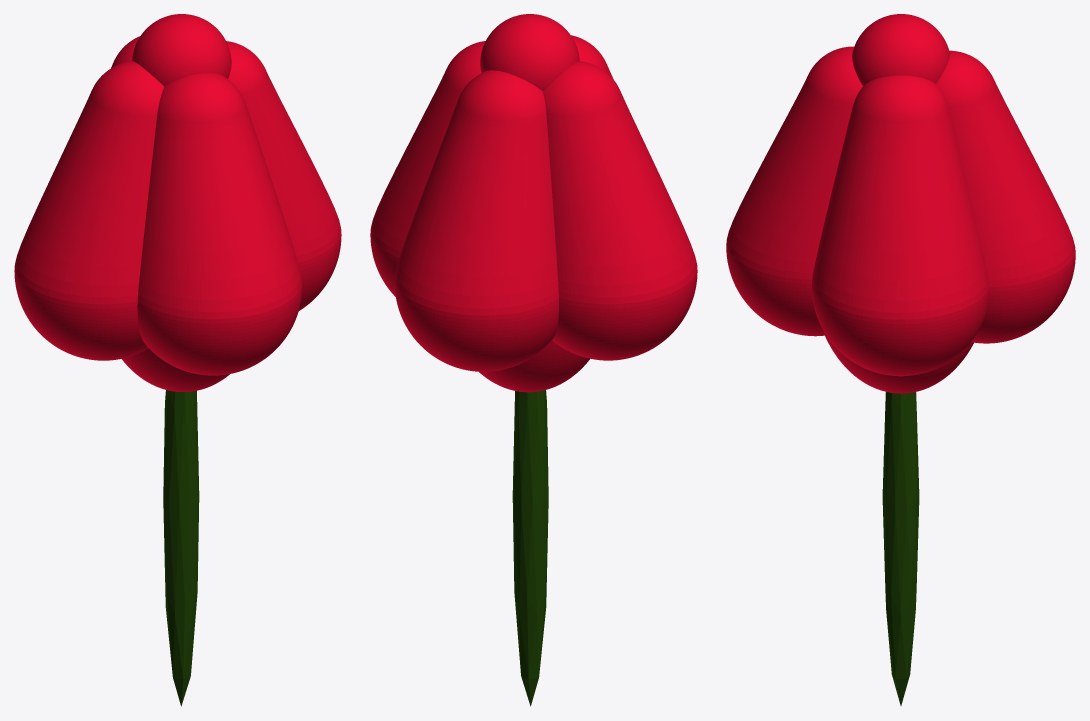
Rendered from Tree3_3.fbx.
3 views of the same model, side by side, from view 1: azimuth 30°, elevation 25°; view 2: azimuth 150°, elevation 25°; view 3: azimuth 270°, elevation 25° (orthographic).
Visible parts, largest first — view 1: Esfera UV.002, Esfera icosaédrica; view 2: Esfera UV.002, Esfera icosaédrica; view 3: Esfera UV.002, Esfera icosaédrica.
Part boxes in pixels (bbox=[...]): Esfera UV.002: bbox=[14, 14, 341, 391]; Esfera icosaédrica: bbox=[163, 390, 199, 706]; Esfera UV.002: bbox=[370, 14, 697, 392]; Esfera icosaédrica: bbox=[512, 390, 548, 706]; Esfera UV.002: bbox=[726, 14, 1075, 393]; Esfera icosaédrica: bbox=[882, 392, 919, 705].
Bounding box in the file's own units: 1903 × 4128 × 1898.
